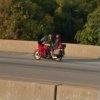Motorcycle: (28, 31, 76, 64)
